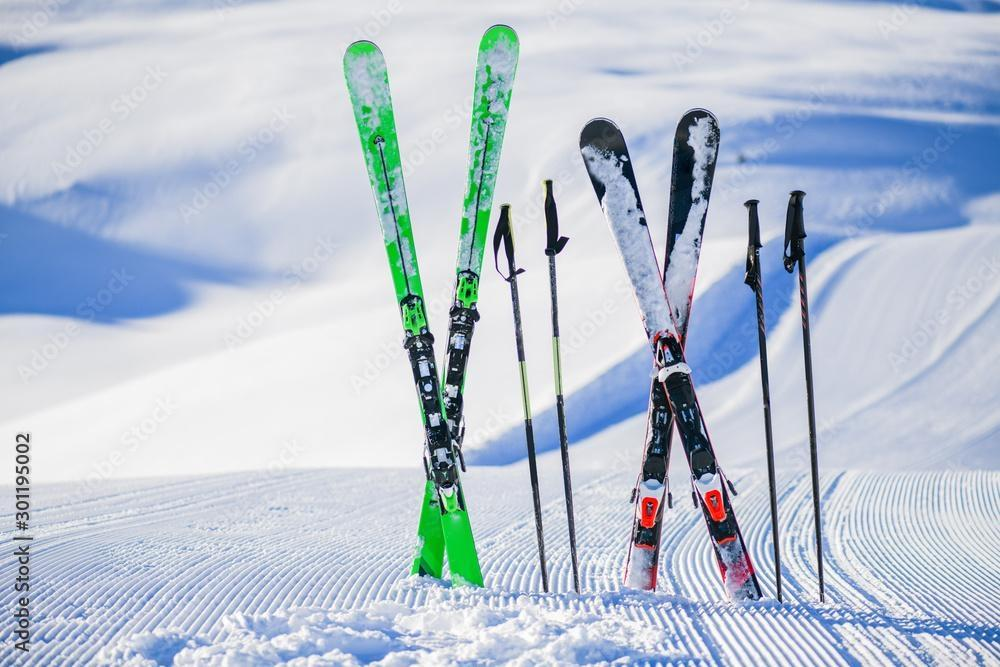Skis: (318, 13, 582, 622)
